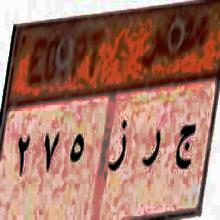2: (13, 126, 31, 185)
5: (64, 124, 90, 175)
7: (38, 122, 62, 180)
jeem: (174, 114, 198, 176)
raa: (140, 127, 167, 180)
zay: (108, 120, 131, 177)
